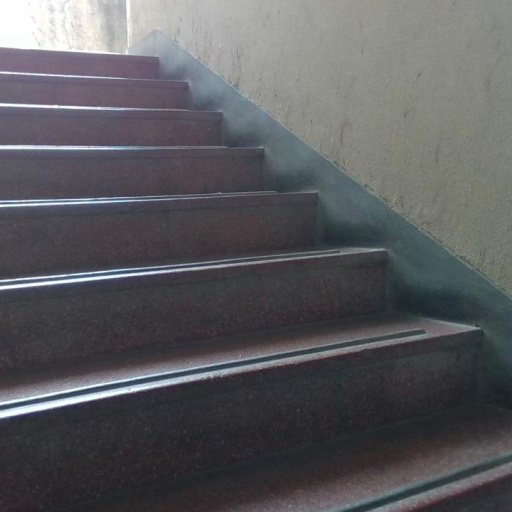Stairs: (0, 48, 512, 512)
